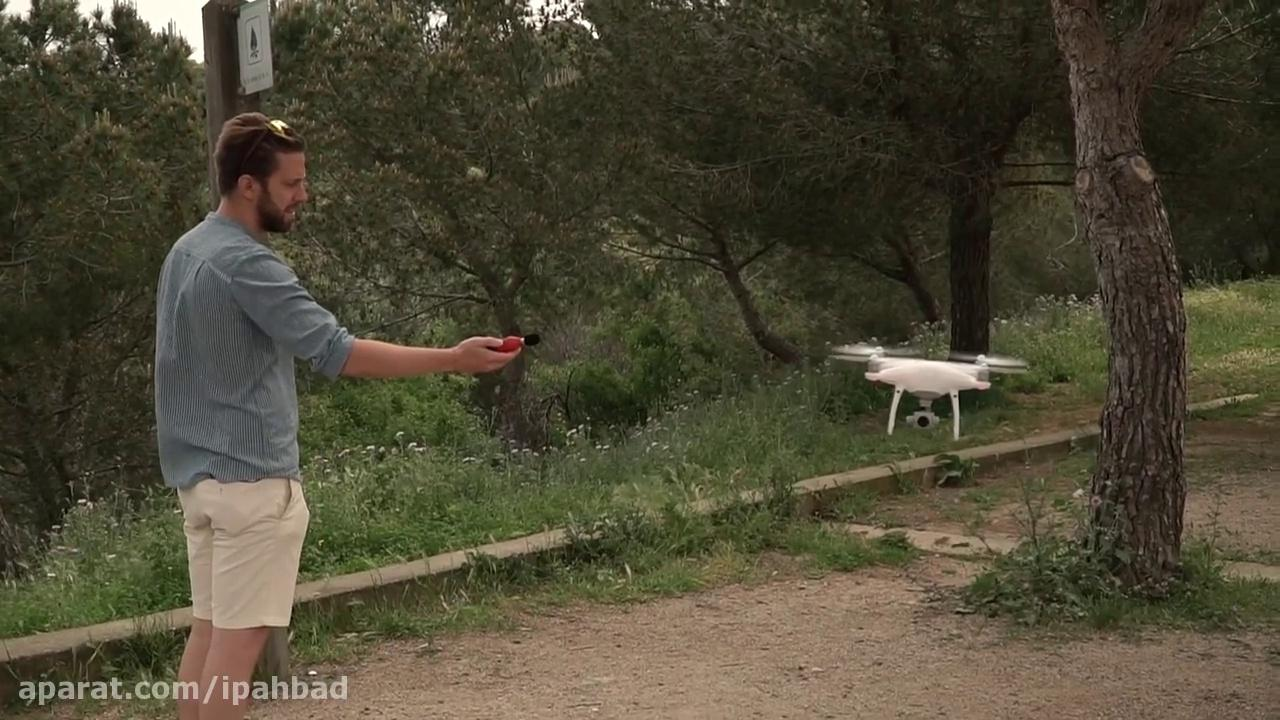drone: (825, 334, 1035, 442)
